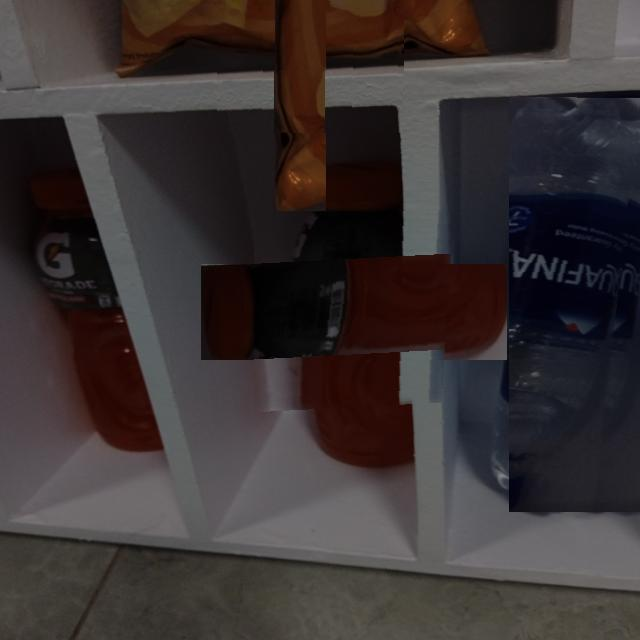Plastic: (509, 96, 640, 512), (254, 211, 455, 413), (195, 0, 404, 133), (51, 219, 99, 353)
